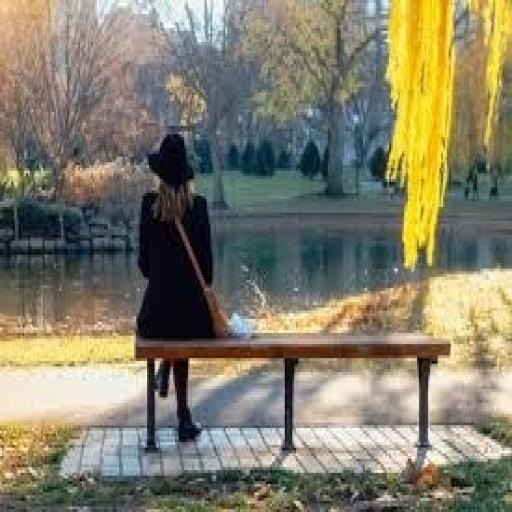sitting: (132, 129, 220, 442)
